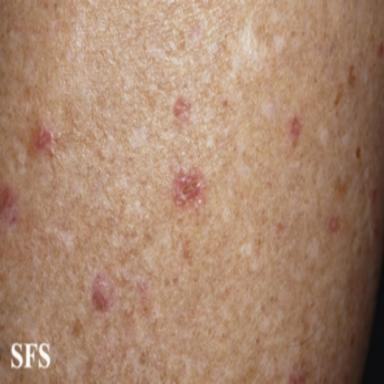Porokeratosis: (173, 170, 205, 206), (91, 274, 115, 312), (0, 184, 19, 226), (33, 124, 53, 151), (173, 97, 191, 122), (290, 116, 303, 140), (328, 215, 339, 233)
